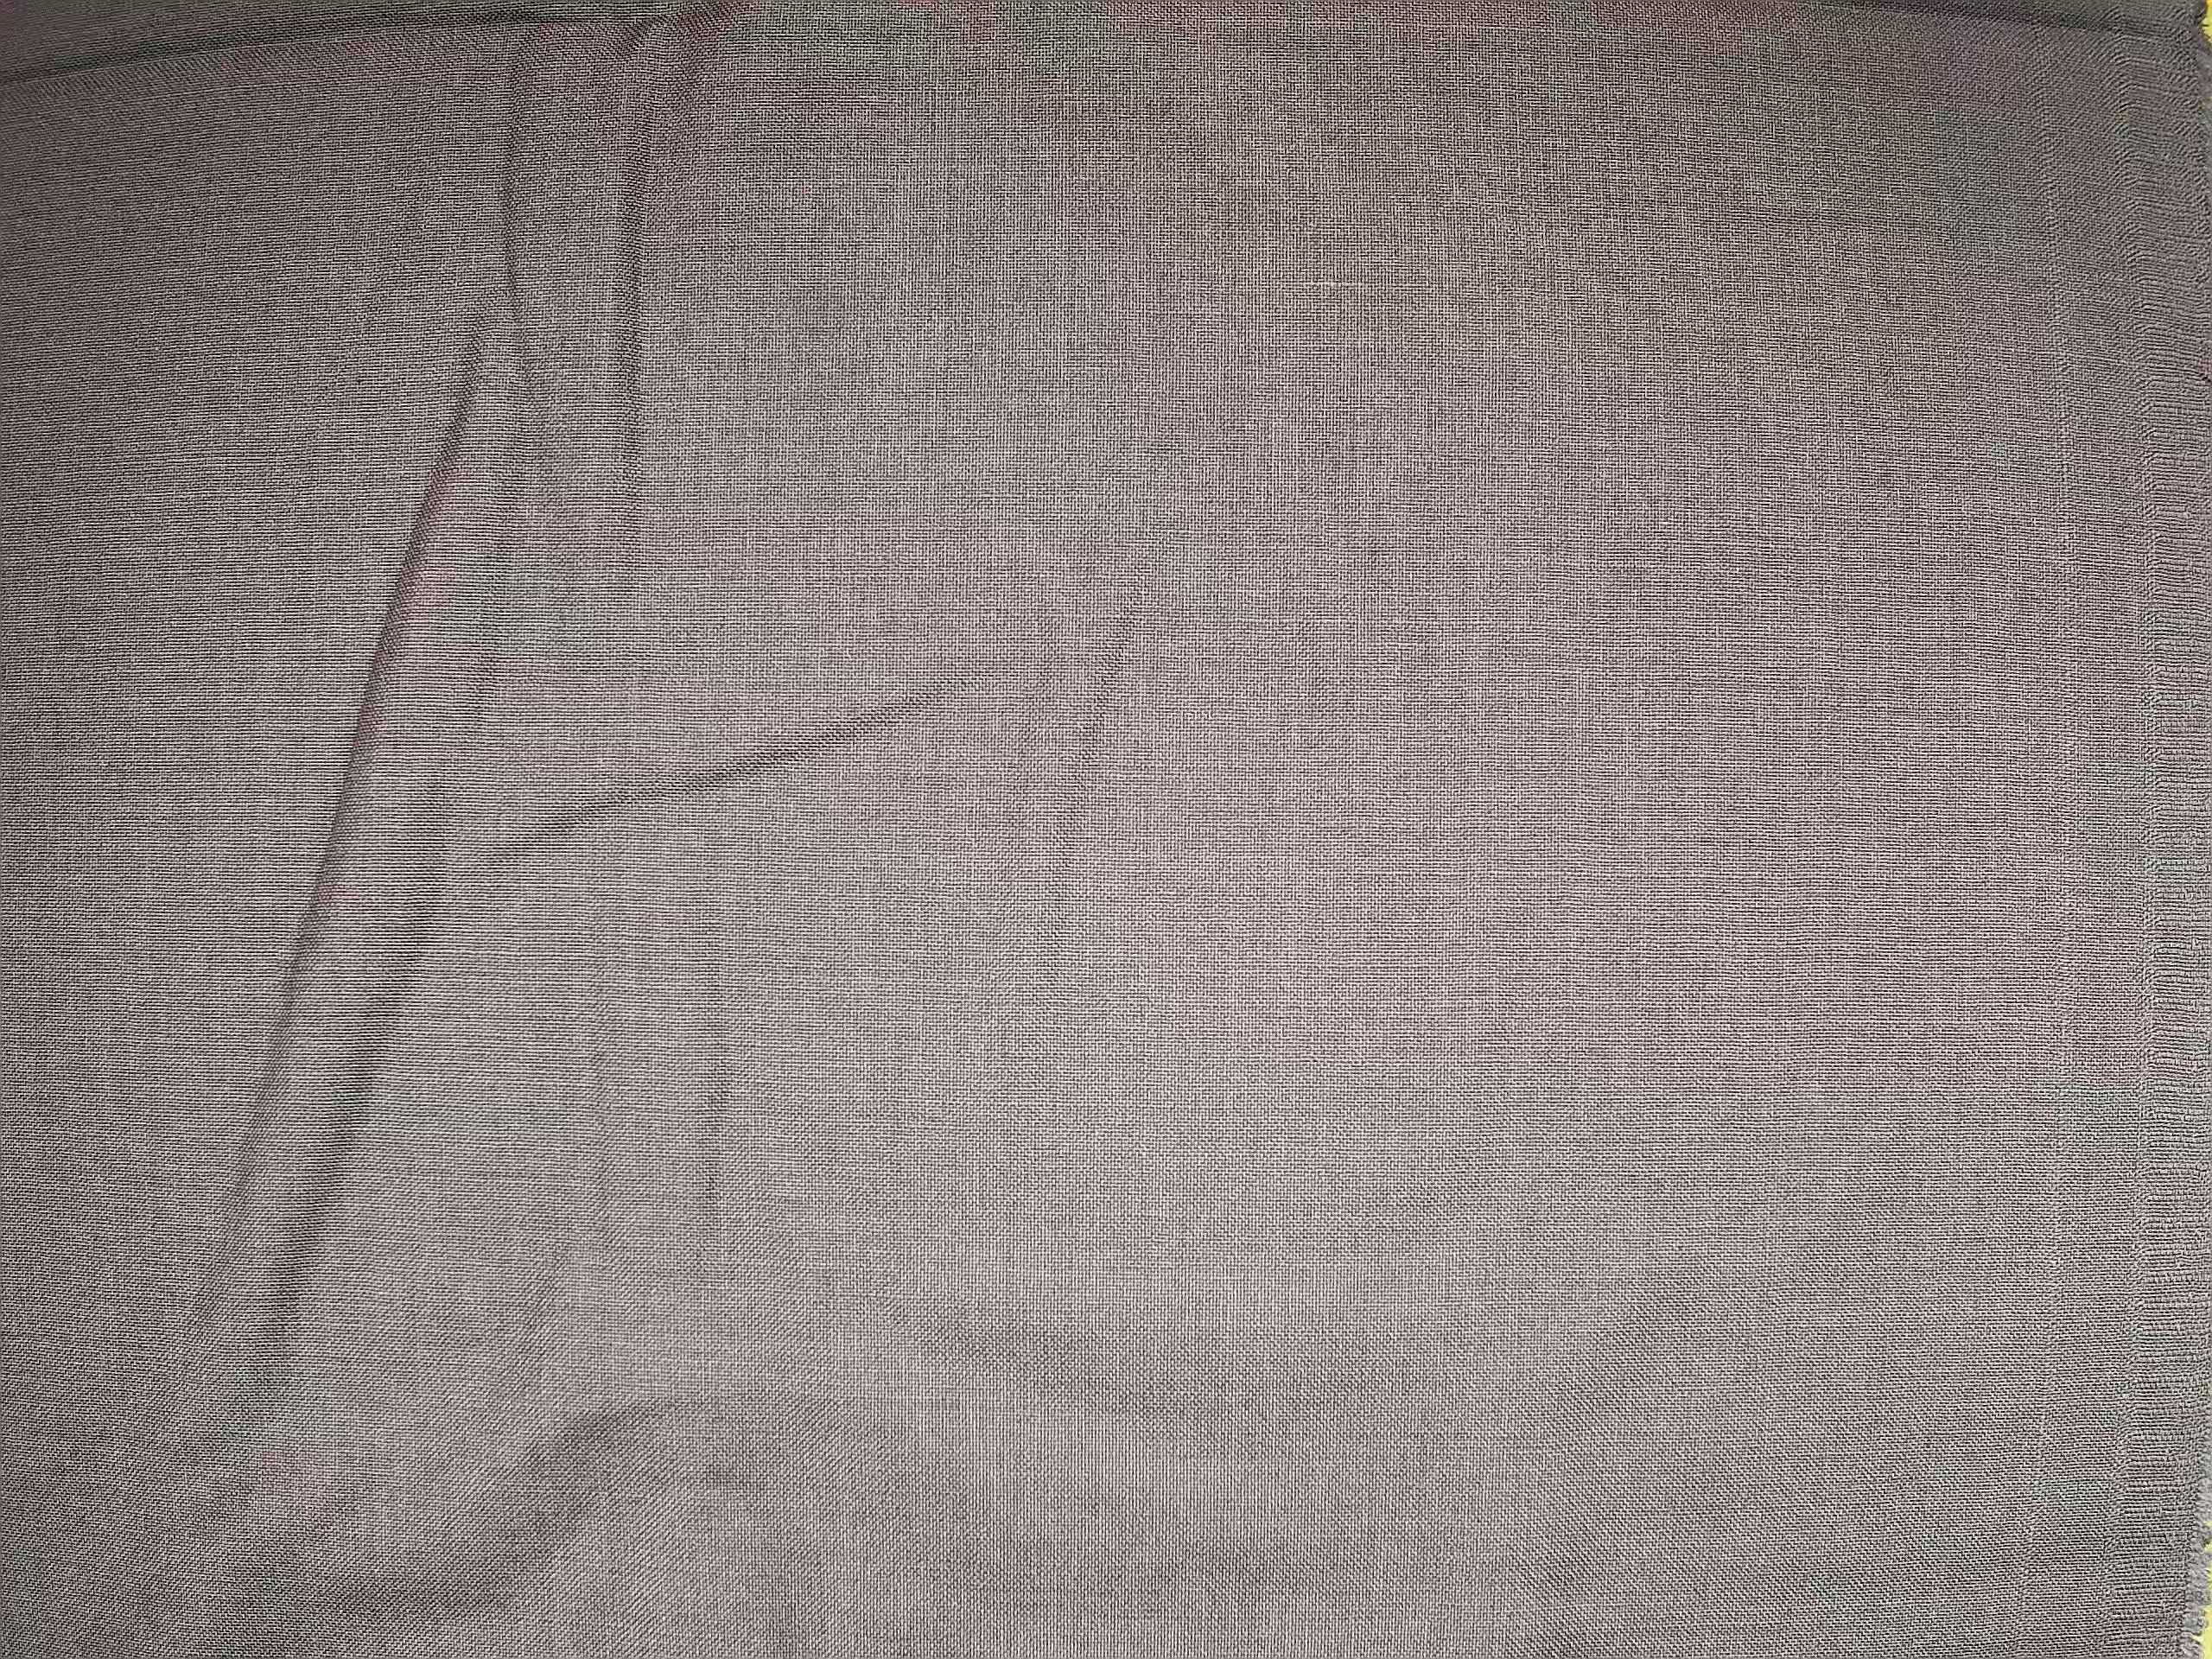end_out: (2012, 2, 2080, 1656)
